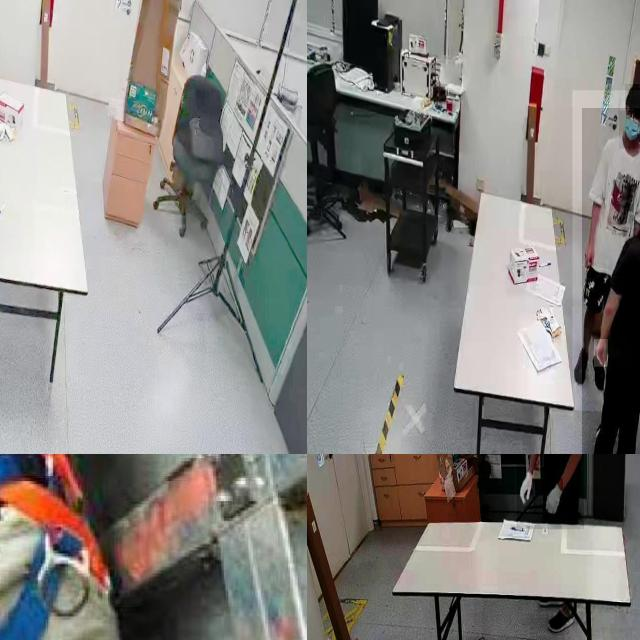Harness: (0, 454, 108, 640)
face_mask: (618, 111, 640, 149)
hand_glove: (515, 467, 535, 513), (543, 478, 563, 523)
hand_noglove: (594, 339, 608, 368), (584, 239, 595, 269)
head_nohelmet: (625, 84, 640, 109)
person: (572, 90, 640, 411), (582, 108, 640, 454), (516, 454, 584, 529)
shoes: (547, 601, 577, 638), (573, 344, 591, 386)
